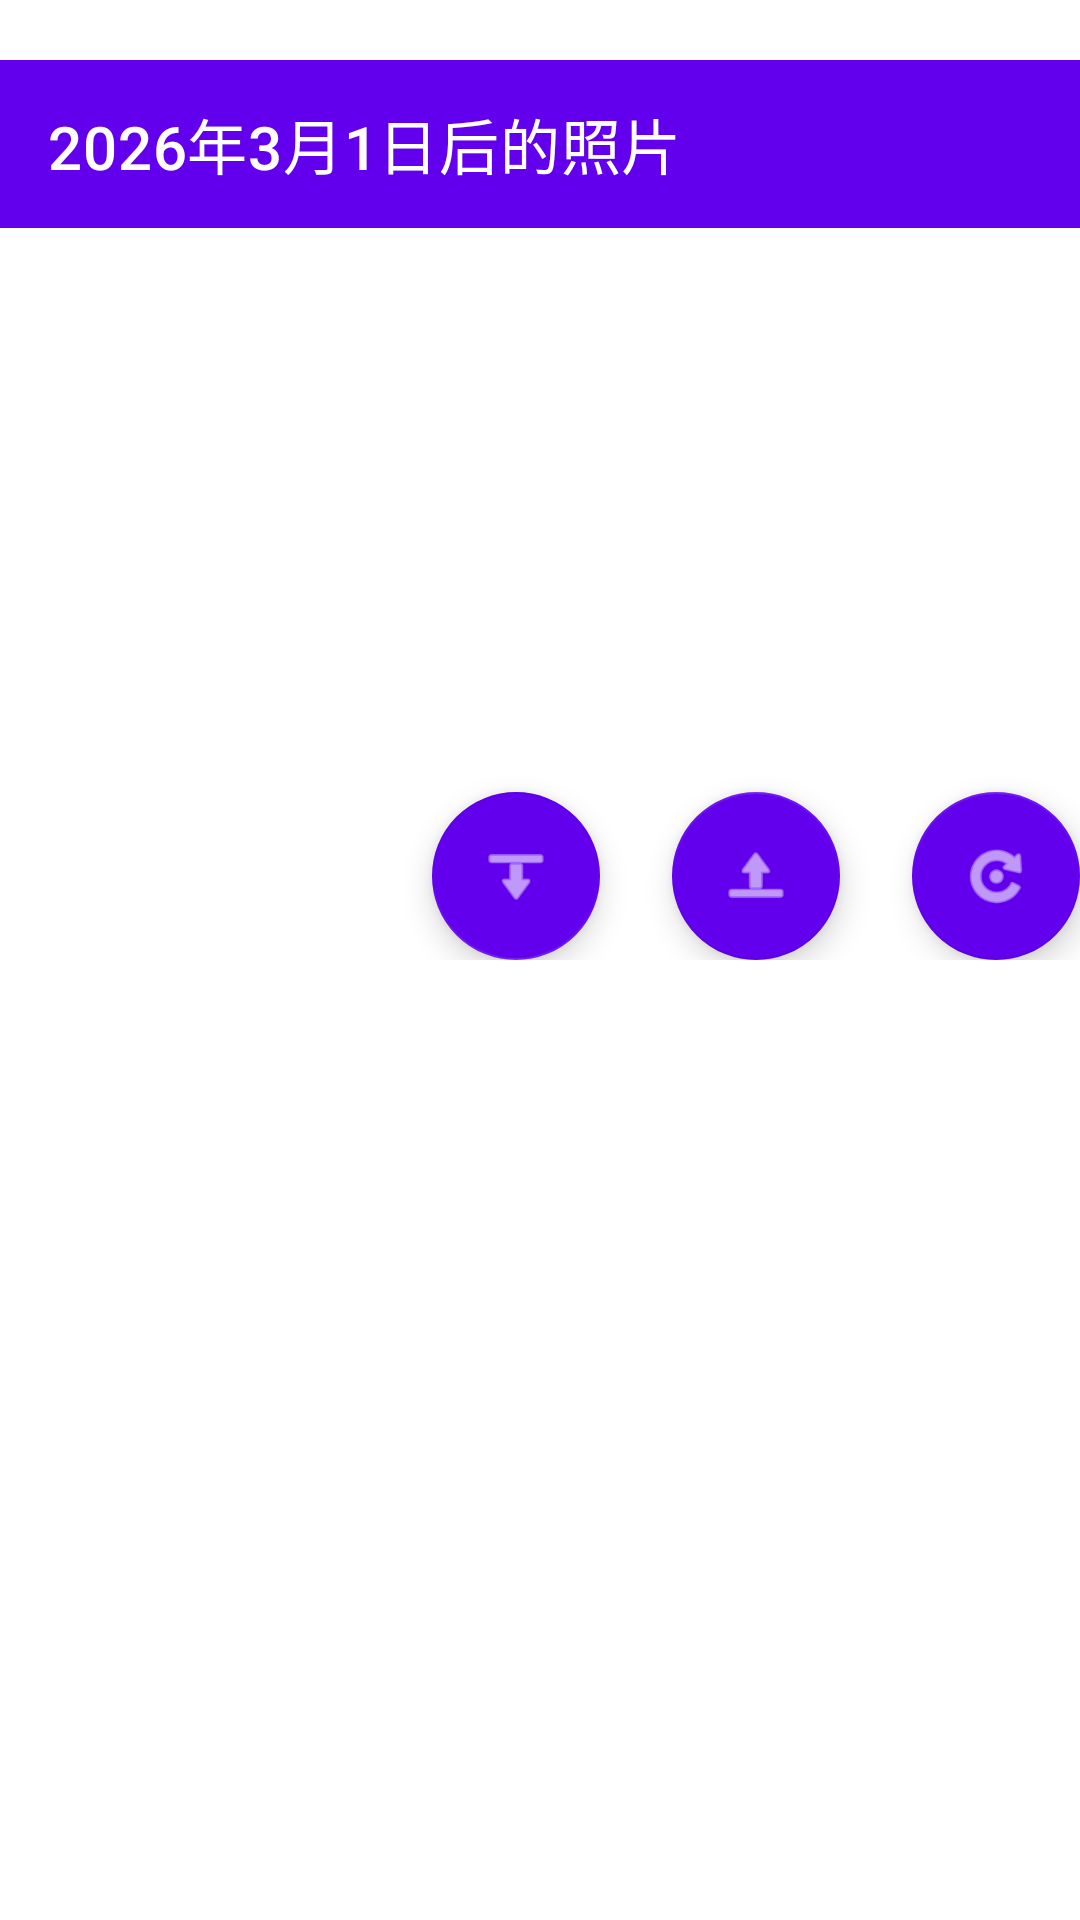

Point at icon controls on the screen. Image size 1080×1920, points as [x,y].
上传: [756,876]
刷新: [996,876]
